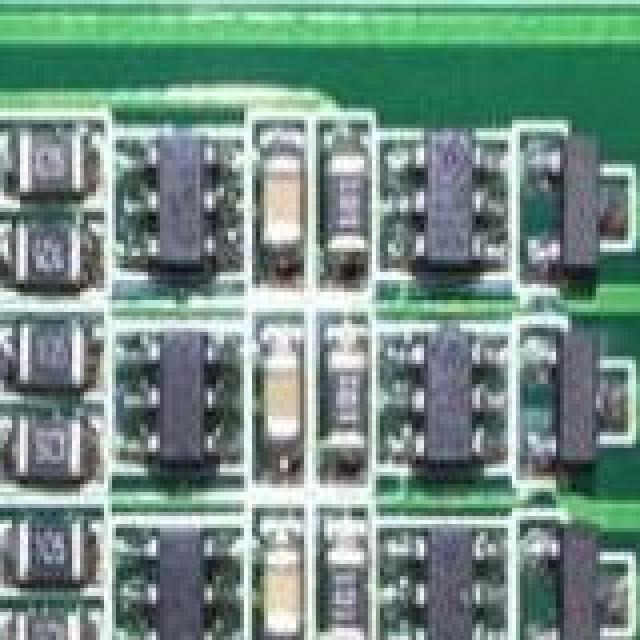IC: (412, 108, 486, 288), (408, 328, 492, 472), (140, 128, 218, 282), (140, 316, 212, 452), (416, 524, 496, 640), (148, 524, 212, 640)
capacitor: (260, 136, 308, 286), (260, 324, 302, 484), (260, 524, 300, 640)
resistor: (0, 120, 80, 208), (320, 140, 366, 288), (328, 524, 380, 640), (4, 508, 82, 580), (324, 348, 370, 468), (4, 408, 90, 468), (0, 316, 80, 380), (0, 228, 84, 288), (4, 608, 88, 640)
transistor: (548, 124, 618, 286), (544, 516, 616, 640), (544, 332, 602, 472)
